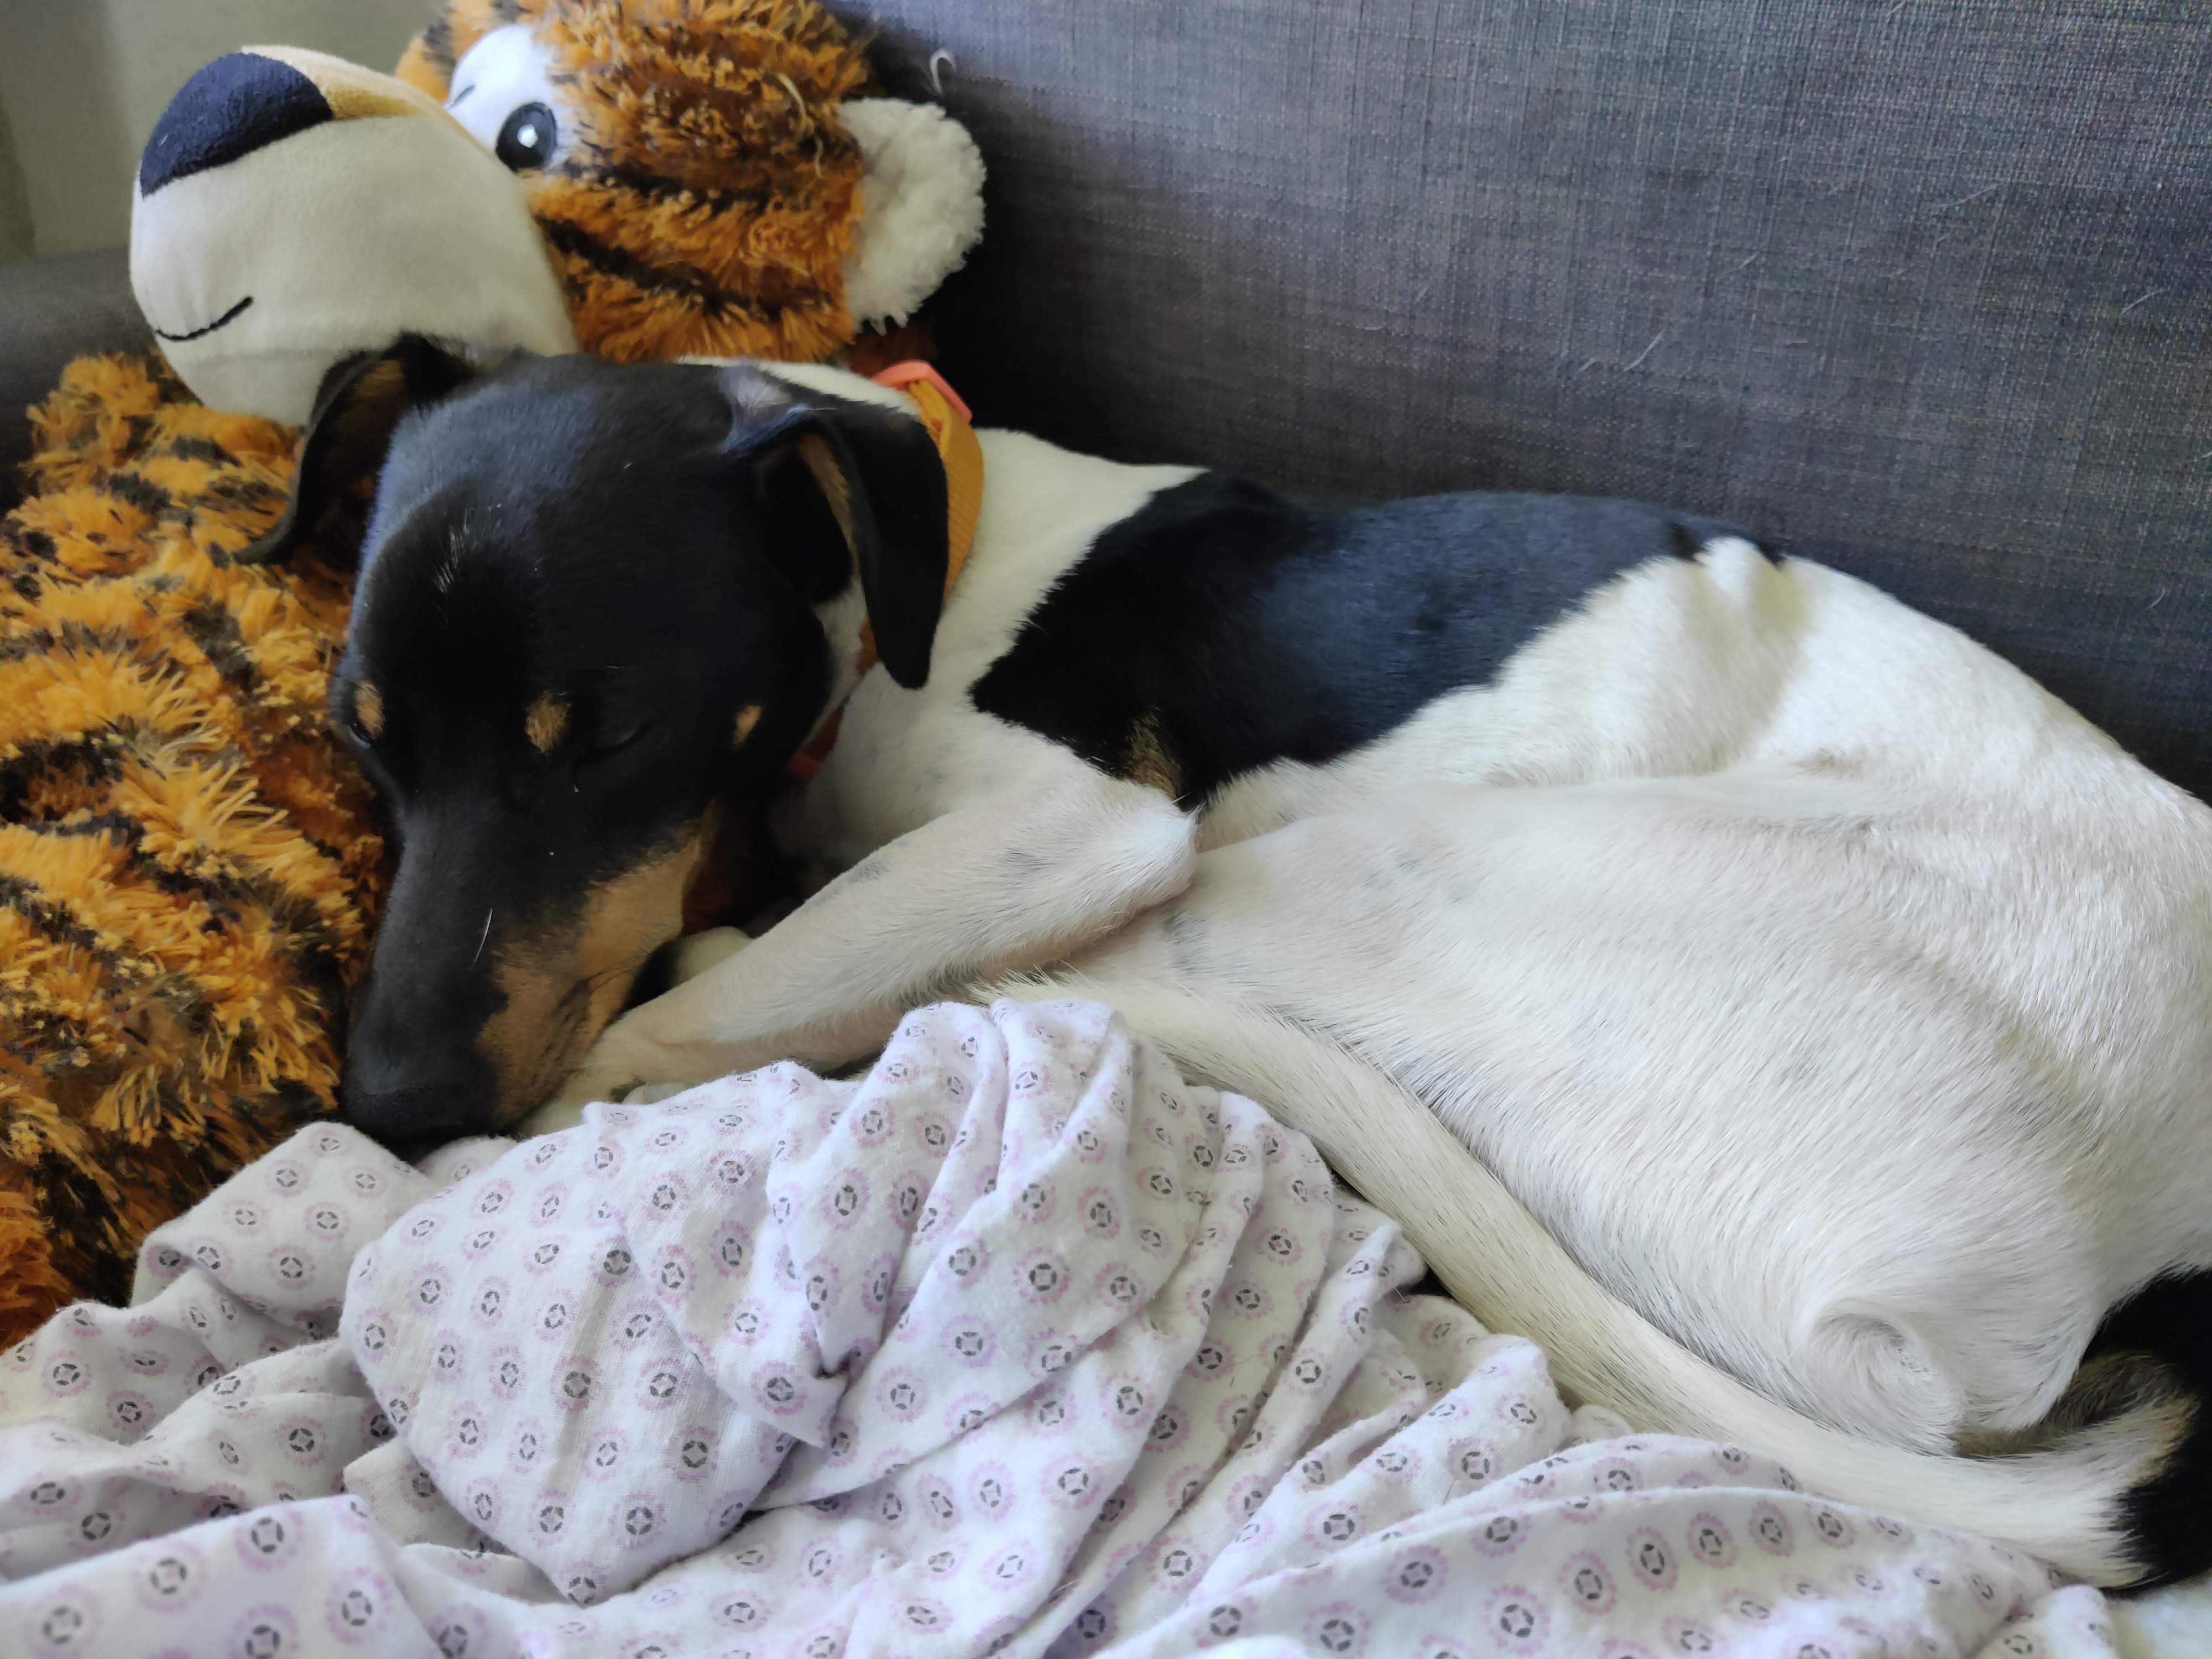Dog: (235, 321, 2212, 1603)
